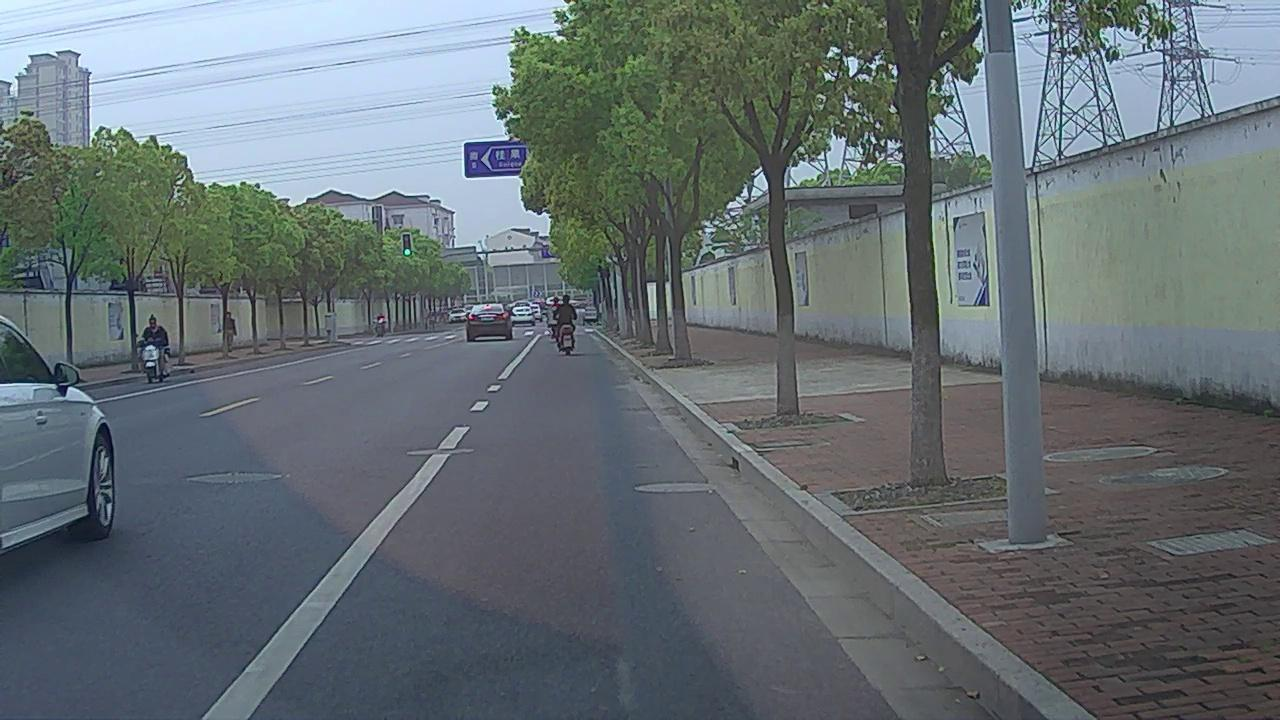traffic_light: (403, 234, 411, 255)
